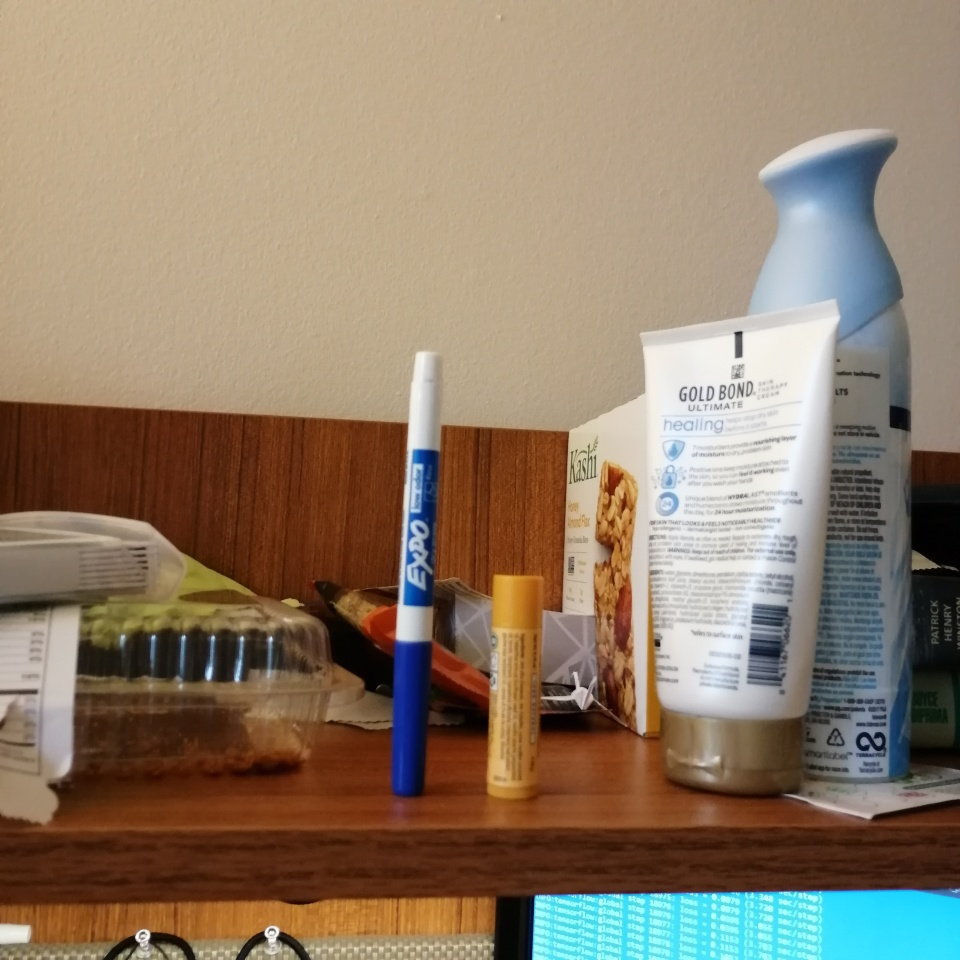chapstick: (485, 574, 545, 799)
